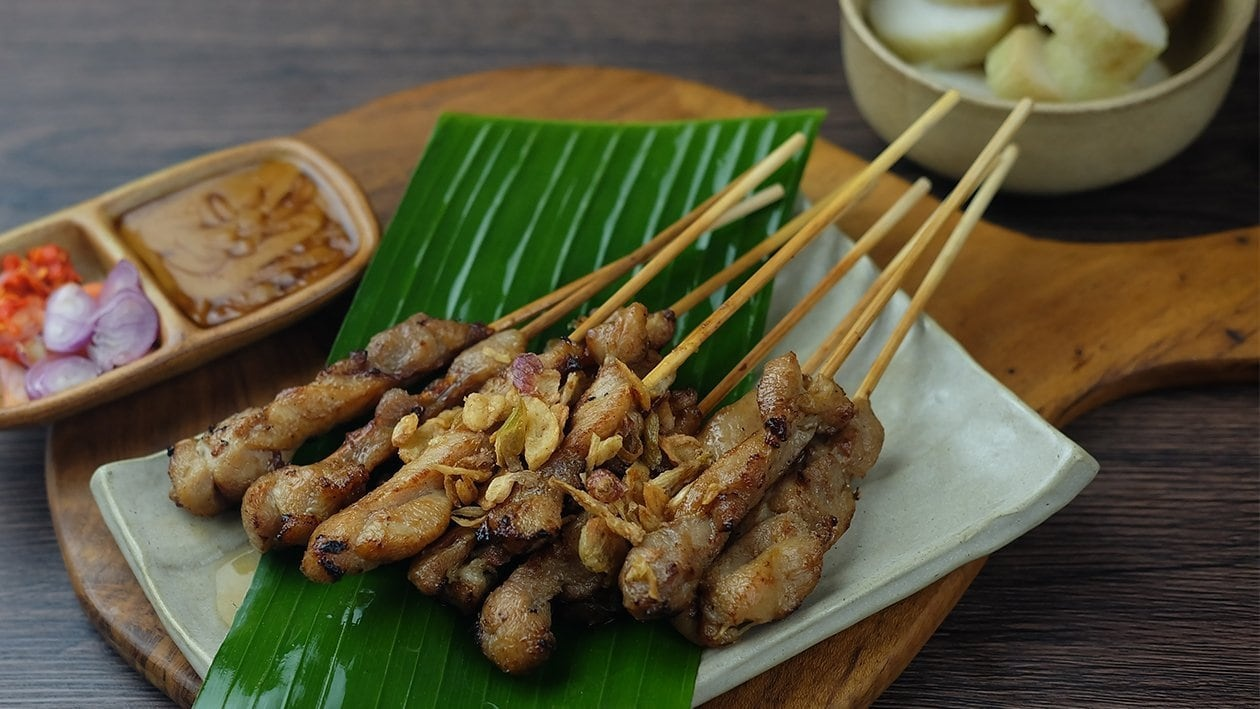sate: (156, 207, 887, 673)
